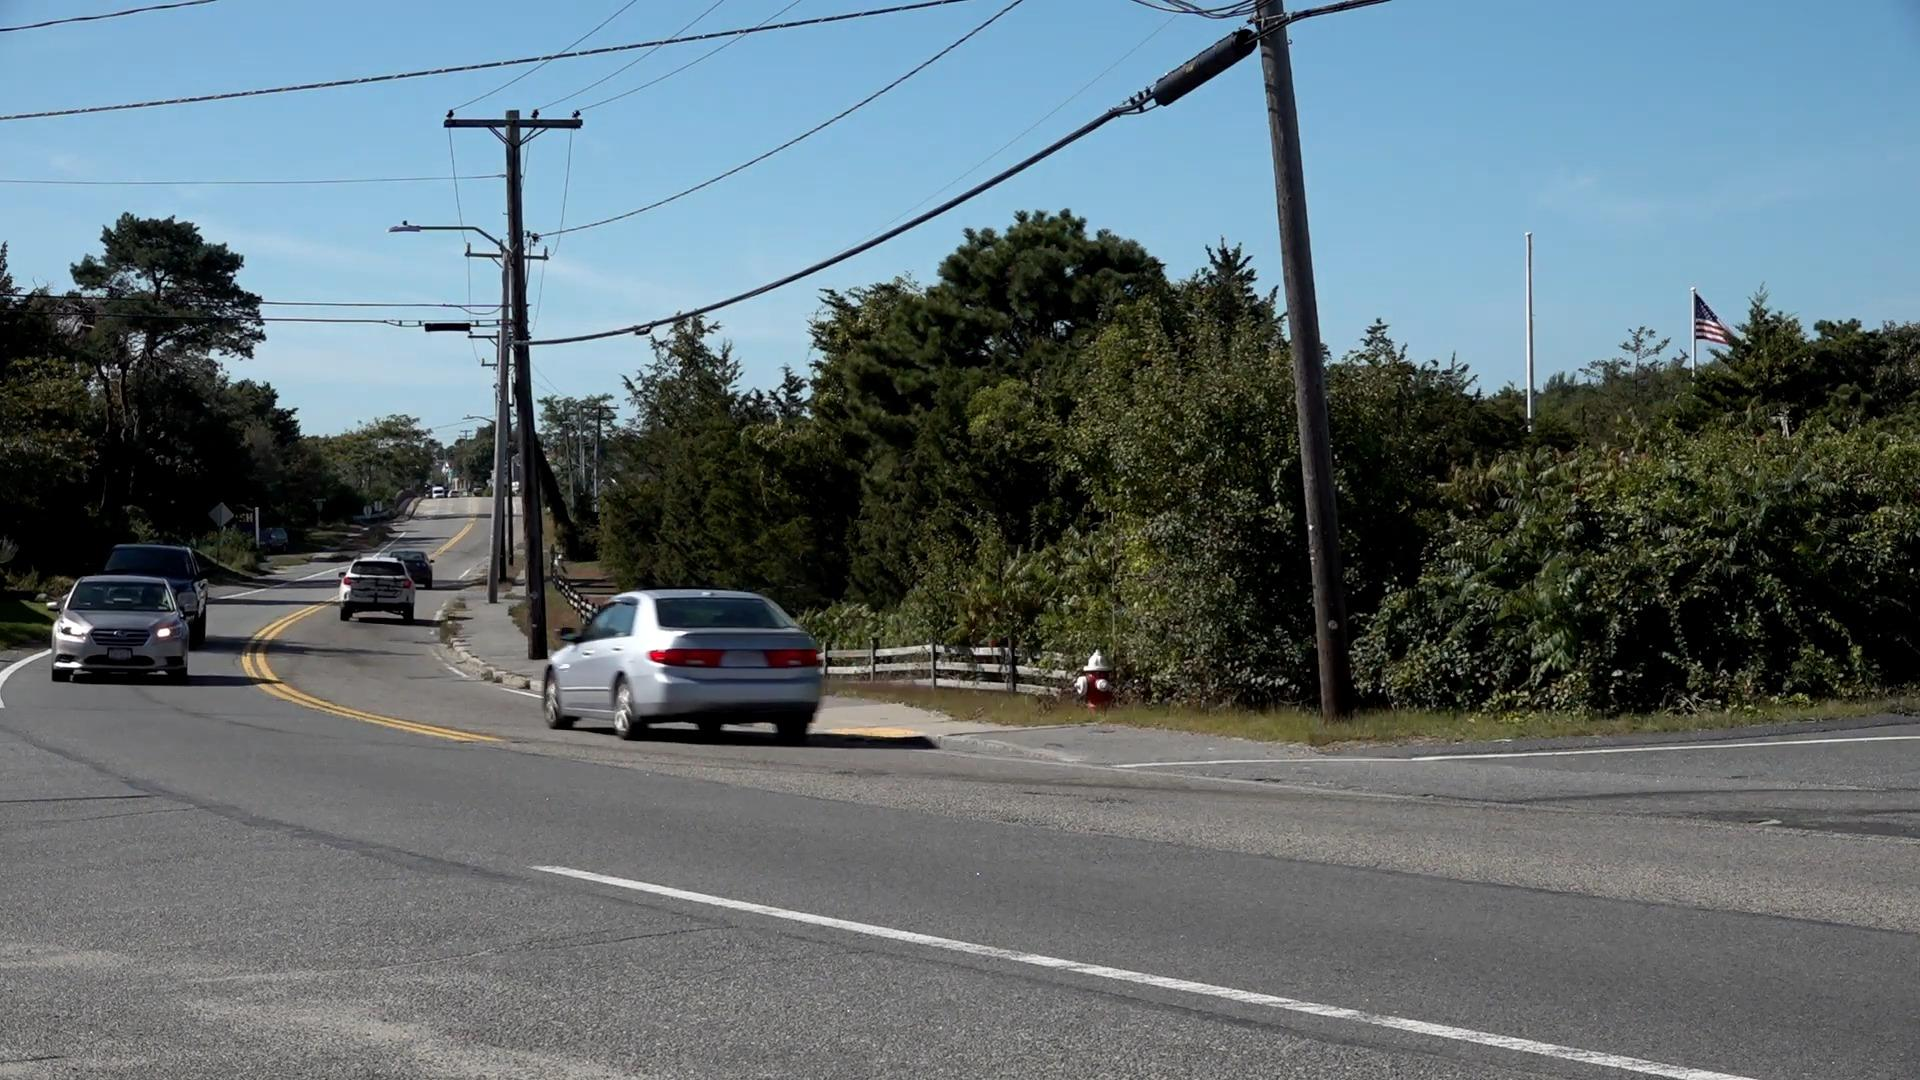sedans: (538, 583, 828, 749), (57, 574, 193, 680)
suv: (339, 554, 422, 624)
